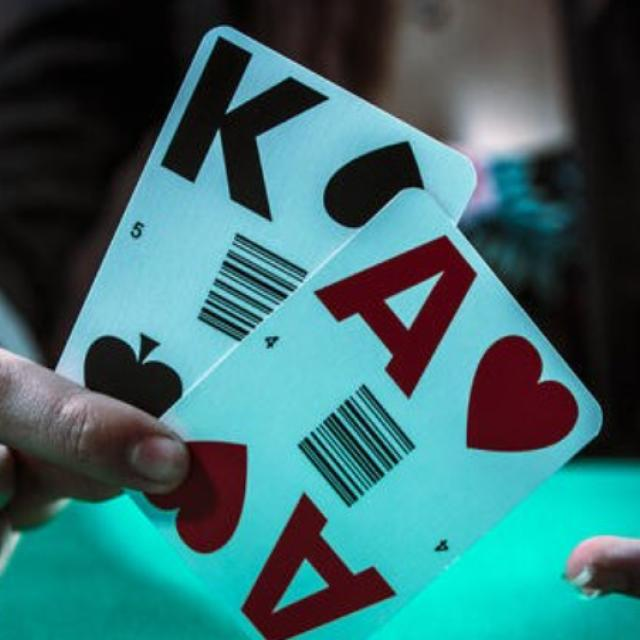Card-A: (122, 192, 603, 632)
Card-K: (54, 25, 476, 419)
